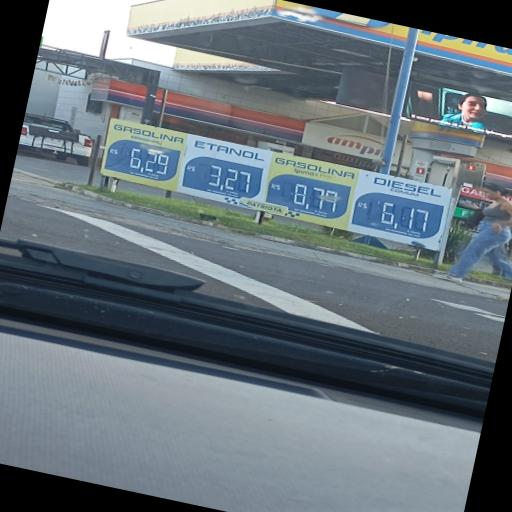ETANOL: (187, 136, 270, 168)
GASOLINA C: (110, 122, 187, 152)
S500: (364, 172, 448, 204)
placa: (99, 117, 452, 251)
preco: (376, 198, 436, 234), (202, 161, 256, 196), (121, 144, 174, 178)
